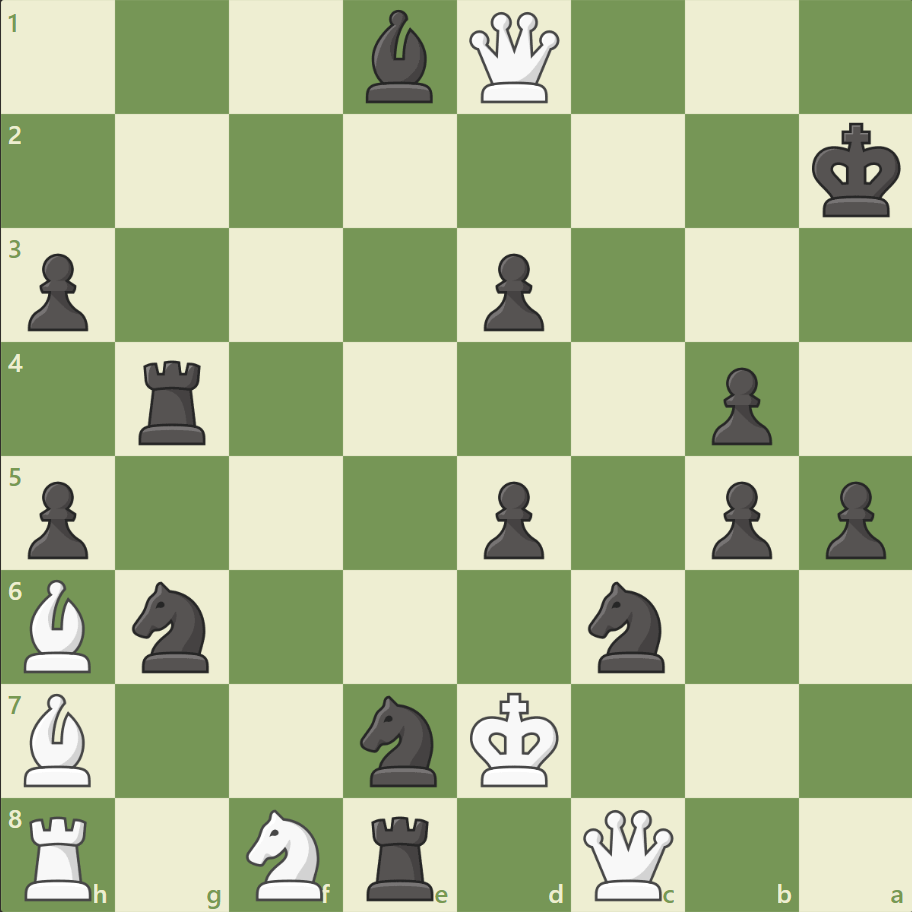B: (17, 687, 101, 790), (17, 574, 101, 676)
K: (465, 685, 565, 793)
N: (238, 802, 335, 904)
Q: (578, 804, 677, 903), (464, 9, 563, 108)
R: (19, 806, 102, 904)
b: (358, 6, 442, 109)
k: (806, 117, 906, 225)
n: (351, 688, 449, 791), (124, 575, 222, 677), (579, 575, 676, 677)
p: (701, 473, 776, 564), (474, 473, 549, 564), (20, 473, 95, 564), (701, 359, 776, 450), (474, 246, 549, 337), (20, 246, 95, 337), (815, 473, 889, 564)
r: (360, 806, 442, 904), (133, 352, 215, 449)
